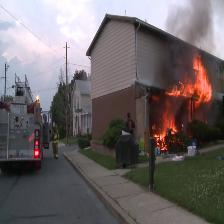fire: (140, 52, 216, 163)
nofire: (31, 129, 46, 165)
smoke: (152, 0, 224, 86)
